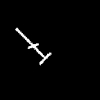double_crochet: (16, 28, 50, 64)
